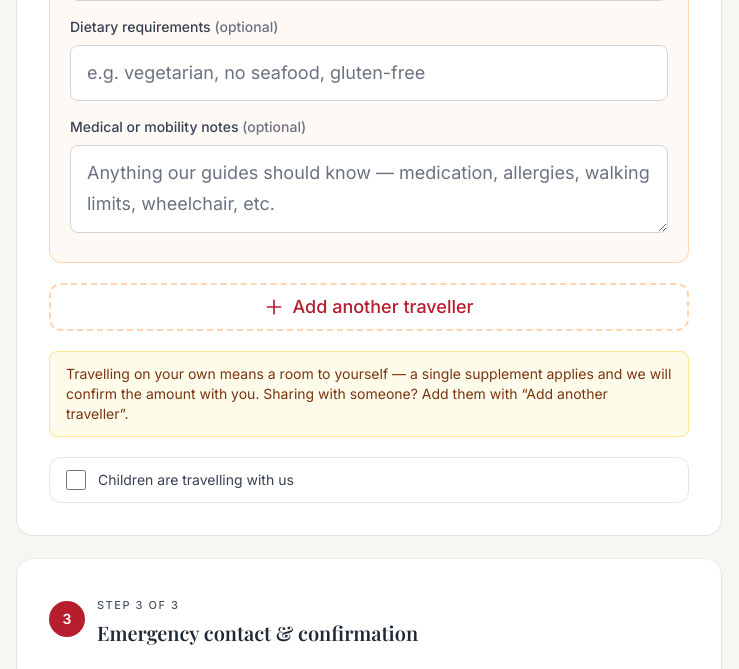
Scenario: step numbering › shows four steps once a second traveller is added
(page scrolled)
What coordinates should you click on to do the following:
click the button "Add another traveller"
I would click on:
 (369, 307)
Its box is [49,283,689,331].
(page scrolled)
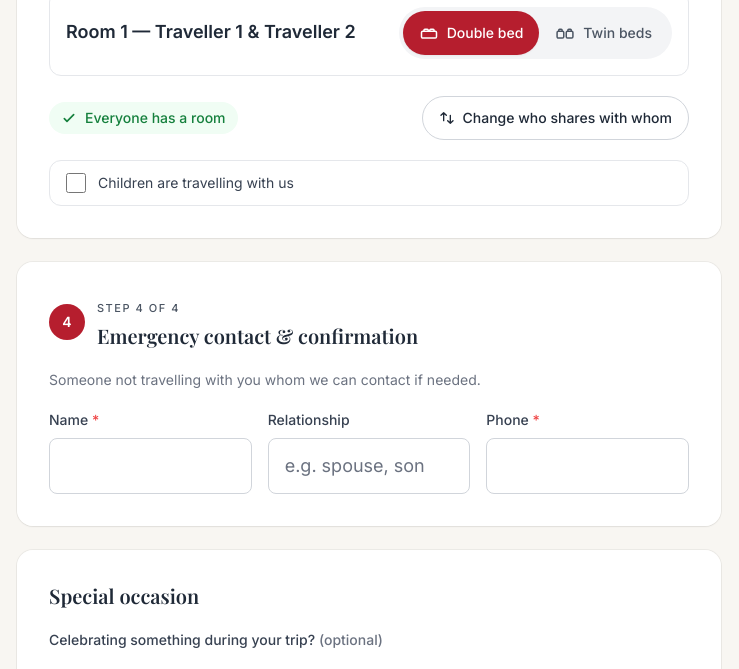
Now the text "Step 4 of 4" is shown, box [97,301,180,315]
